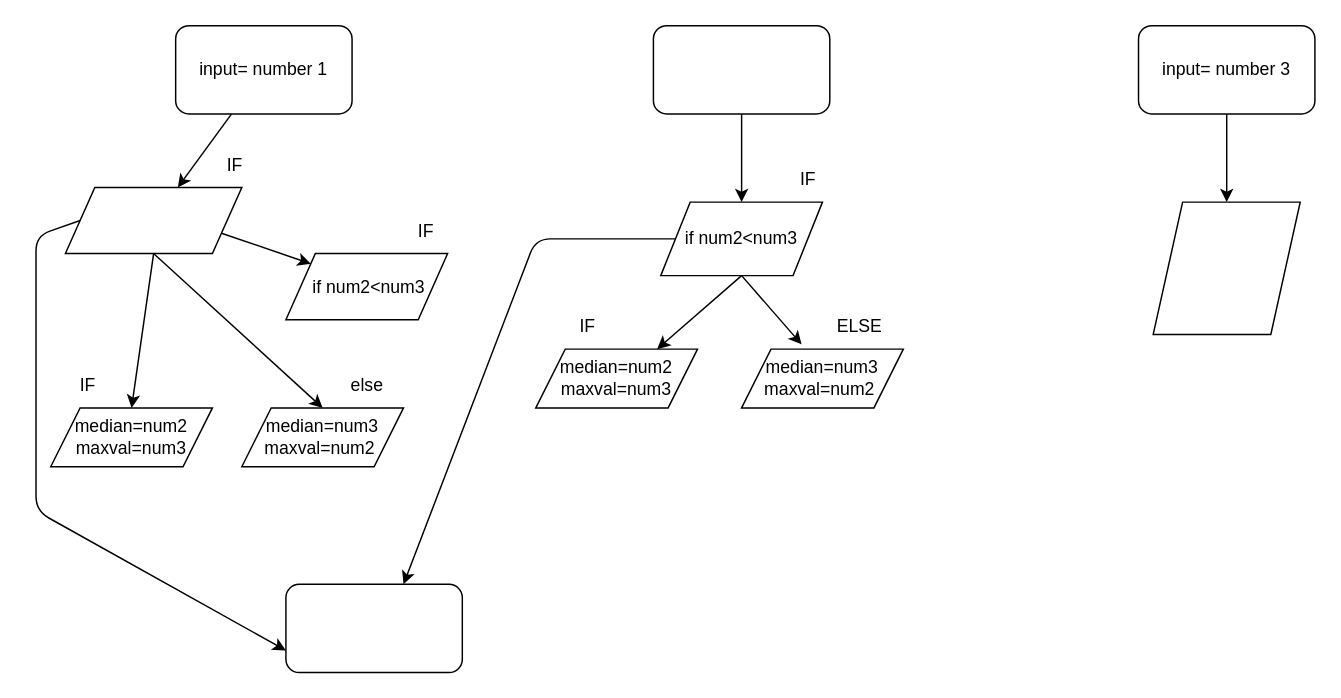
Some shapes in this 1341 by 698 pixel diagram are drawn without their labels. The shapes that lost their labels are listed below. From the top down, each one's box as (x1, y1, x2, y2) in pixels, then its label:
(652, 24, 830, 114): input= number 2
(64, 186, 242, 254): if num1<num2
(1152, 201, 1300, 334): otherwise: minval=3 median=2 maxval=1
(284, 583, 462, 673): minvalue
